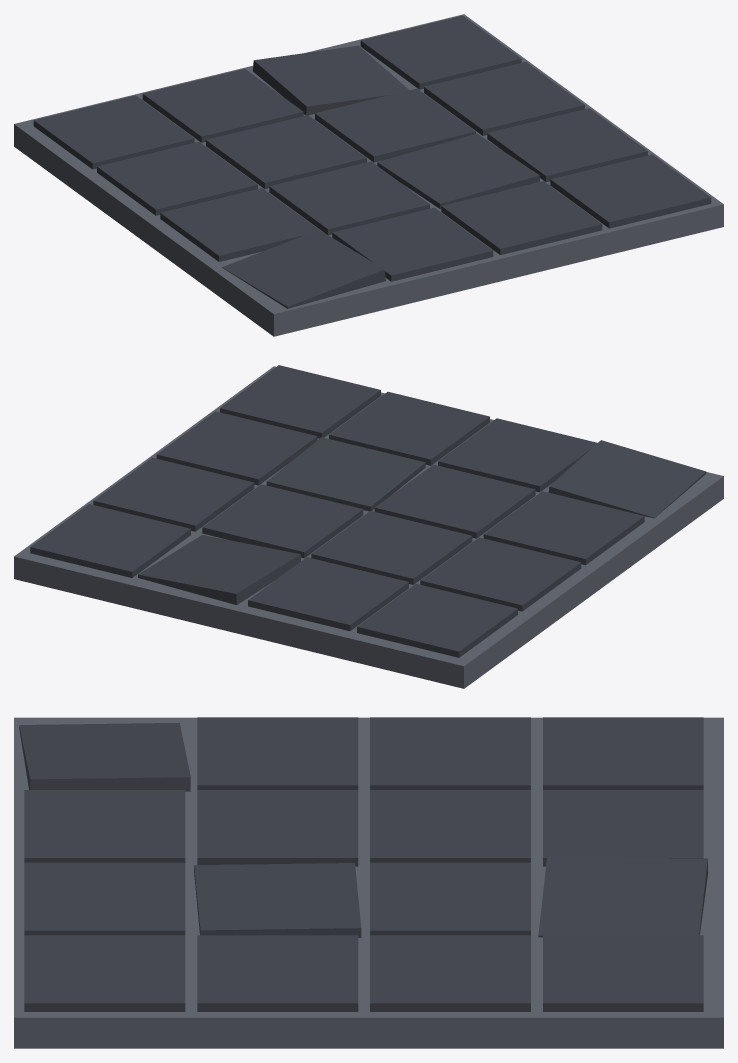
Rendered from Floor02.fbx.
3 renders of one model, top to bottom at view 1: azimuth 30°, elevation 25°; view 2: azimuth 150°, elevation 25°; view 3: azimuth 270°, elevation 25°, orthographic. The views are drawn at different scales.
Parts seen in each view (by area): view 1: Cube.001; view 2: Cube.001; view 3: Cube.001.
Boxes of the visible parts, box(x1,y1,x2,y2) form: Cube.001: box(14, 14, 723, 336); Cube.001: box(14, 365, 723, 688); Cube.001: box(14, 717, 723, 1048).
Size of the model in its own units: 200 by 14.63 by 200.
